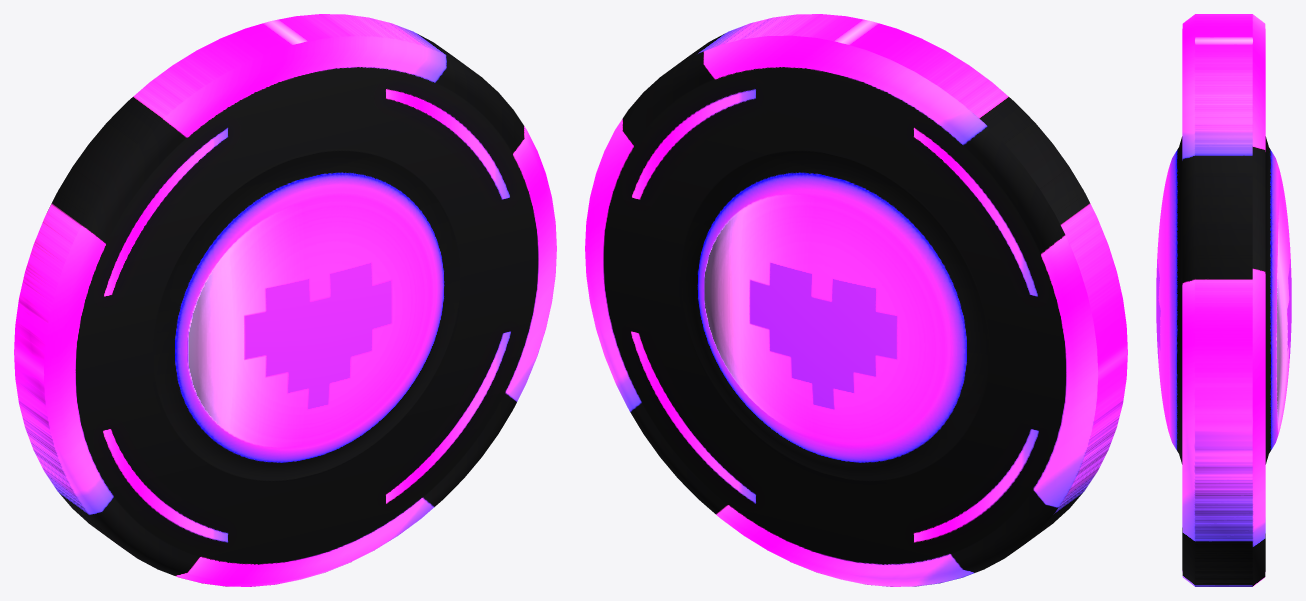
The model's file is bonus_health.glb.
3 renders of one model, left to right at view 1: azimuth 30°, elevation 25°; view 2: azimuth 150°, elevation 25°; view 3: azimuth 270°, elevation 25°, orthographic. The views are drawn at different scales.
Visible parts, largest first — view 1: bonus_health; view 2: bonus_health; view 3: bonus_health.
Part boxes in pixels (x1,y1,x2,y2): bonus_health: [14, 14, 556, 586]; bonus_health: [585, 14, 1127, 586]; bonus_health: [1156, 14, 1291, 586].
Size of the model in its own units: 1.1 by 1.1 by 0.26.
1 material, 1 textured.
